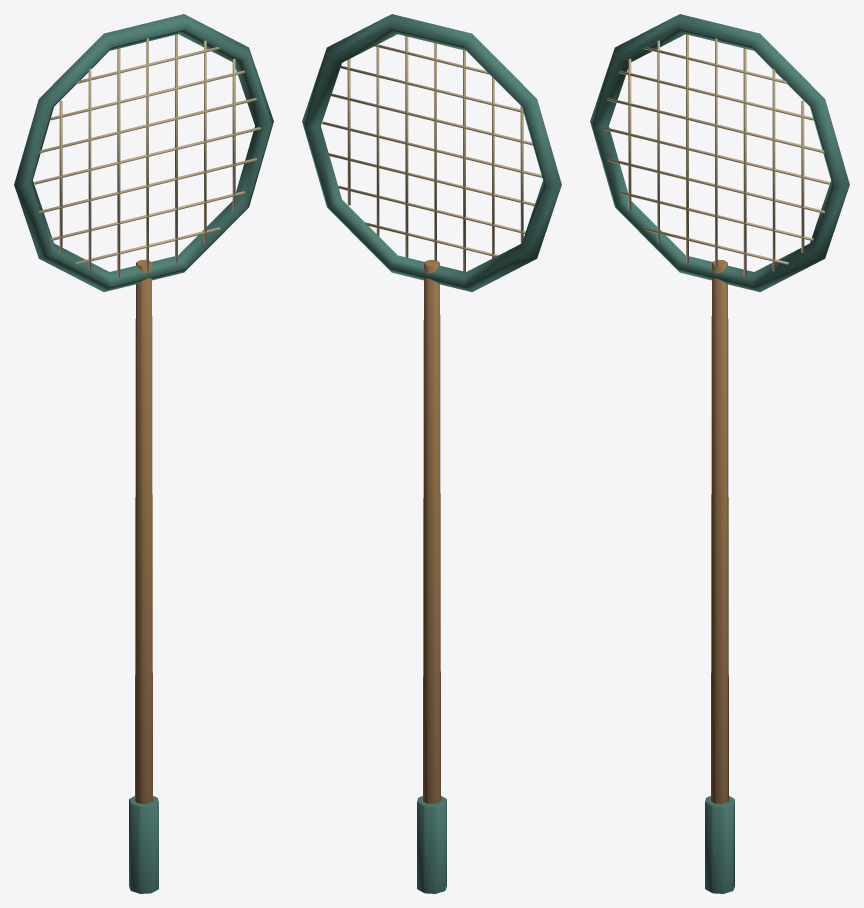
File: tool_bugnet_low.glb
3 views of the same model, side by side, from view 1: azimuth 30°, elevation 25°; view 2: azimuth 150°, elevation 25°; view 3: azimuth 330°, elevation 25° (orthographic).
Size of the model in its own units: 0.496 by 1.58 by 0.0509.
